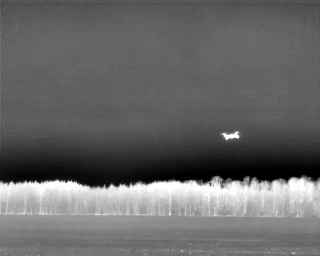DRONE: (218, 126, 245, 146)
